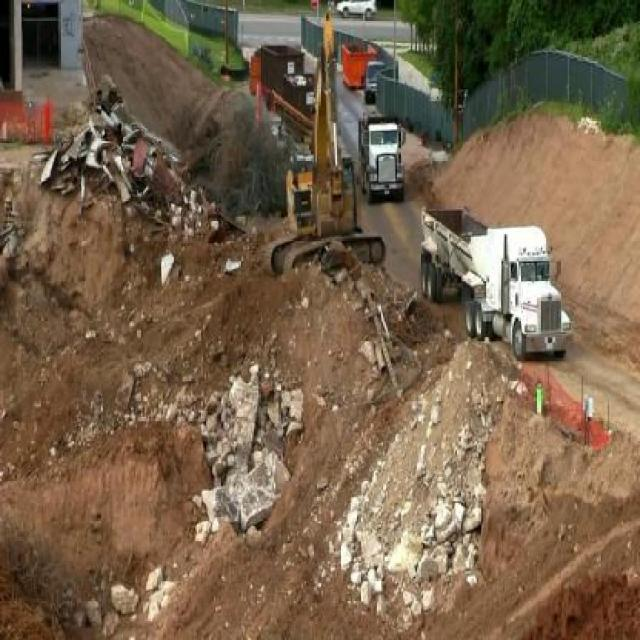Dump Truck: (418, 207, 574, 362), (358, 118, 404, 200)
Excavator: (264, 18, 385, 276)
